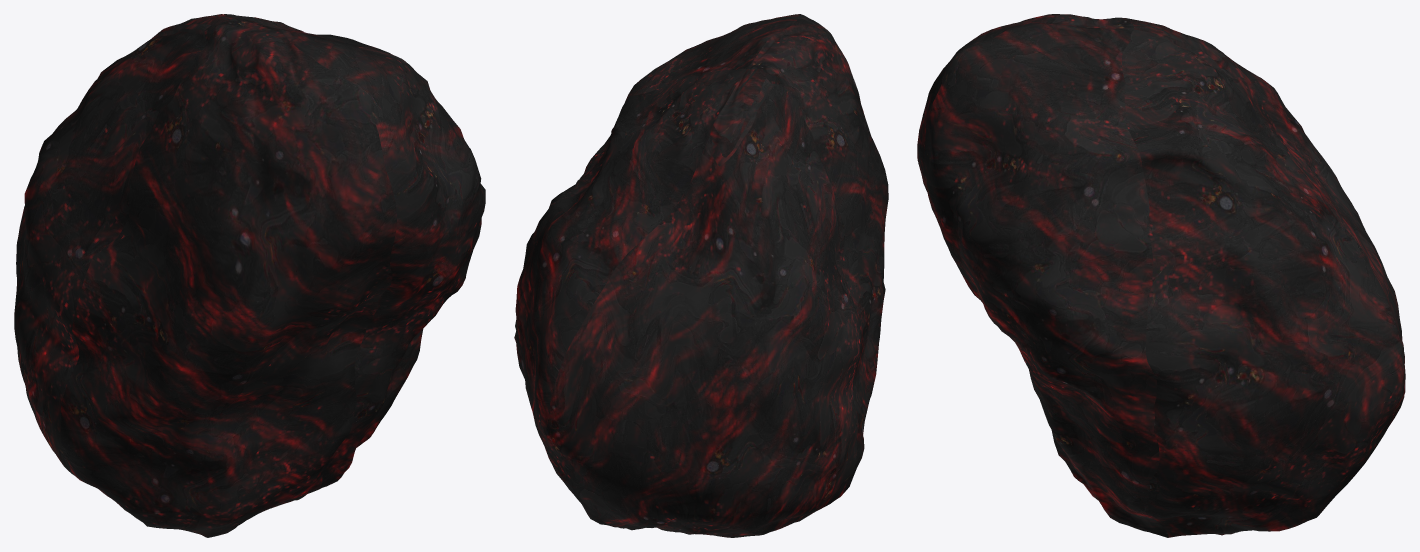
3 renders of one model, left to right at view 1: azimuth 30°, elevation 25°; view 2: azimuth 150°, elevation 25°; view 3: azimuth 270°, elevation 25°, orthographic. The views are drawn at different scales.
Parts seen in each view (by area): view 1: Rock1; view 2: Rock1; view 3: Rock1.
Boxes of the visible parts, x1=… form: Rock1: x1=14, y1=14, x2=485, y2=537; Rock1: x1=514, y1=14, x2=888, y2=537; Rock1: x1=917, y1=14, x2=1405, y2=537.
Bounding box in the file's own units: 1.48 × 2 × 1.8.
Materials: 1 (1 with a texture image).
